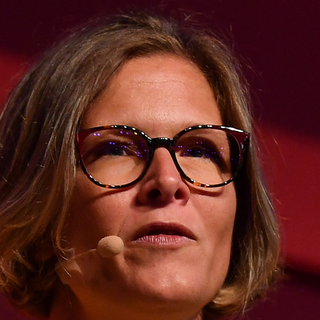eye: (85, 134, 139, 169), (168, 135, 216, 171)
